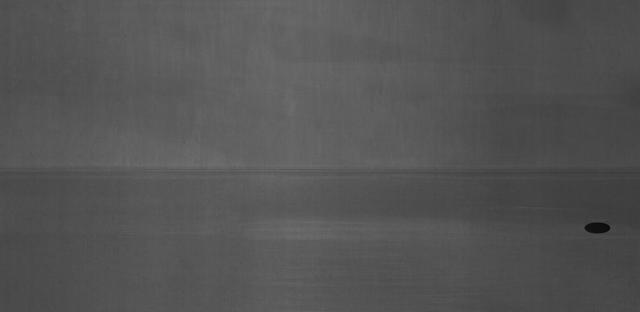punching_hole: (581, 217, 614, 238)
welding_line: (7, 152, 636, 186)
